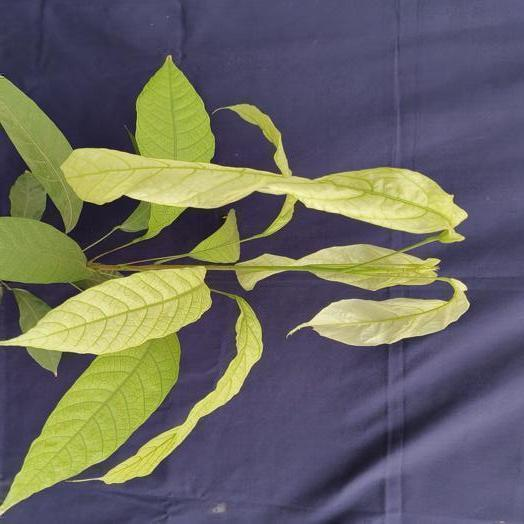Iron: (62, 148, 466, 233), (90, 293, 261, 482), (0, 334, 179, 511), (0, 267, 210, 353), (0, 76, 82, 232), (288, 279, 468, 345), (237, 244, 439, 290), (135, 55, 214, 162), (0, 217, 86, 283), (215, 104, 291, 175), (189, 209, 238, 262), (254, 197, 295, 238), (13, 288, 50, 332), (27, 347, 61, 376)
